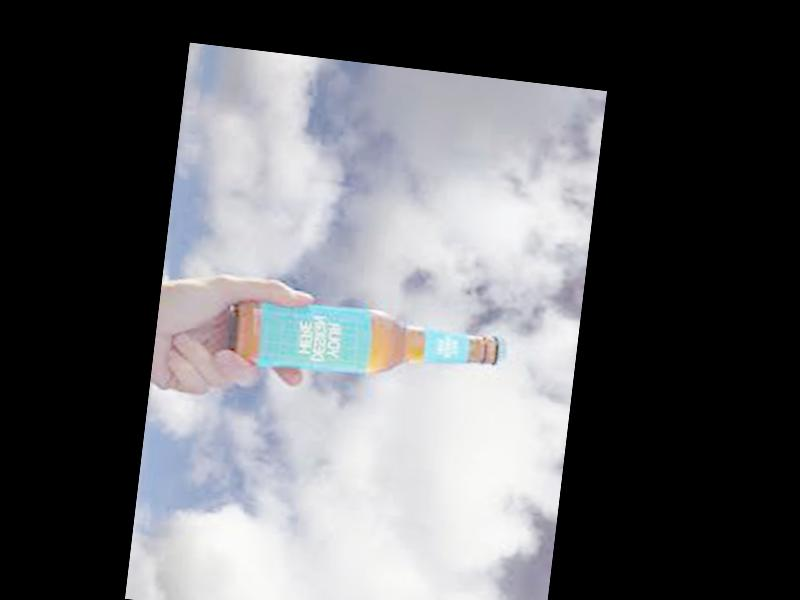Beer: (229, 293, 507, 387)
